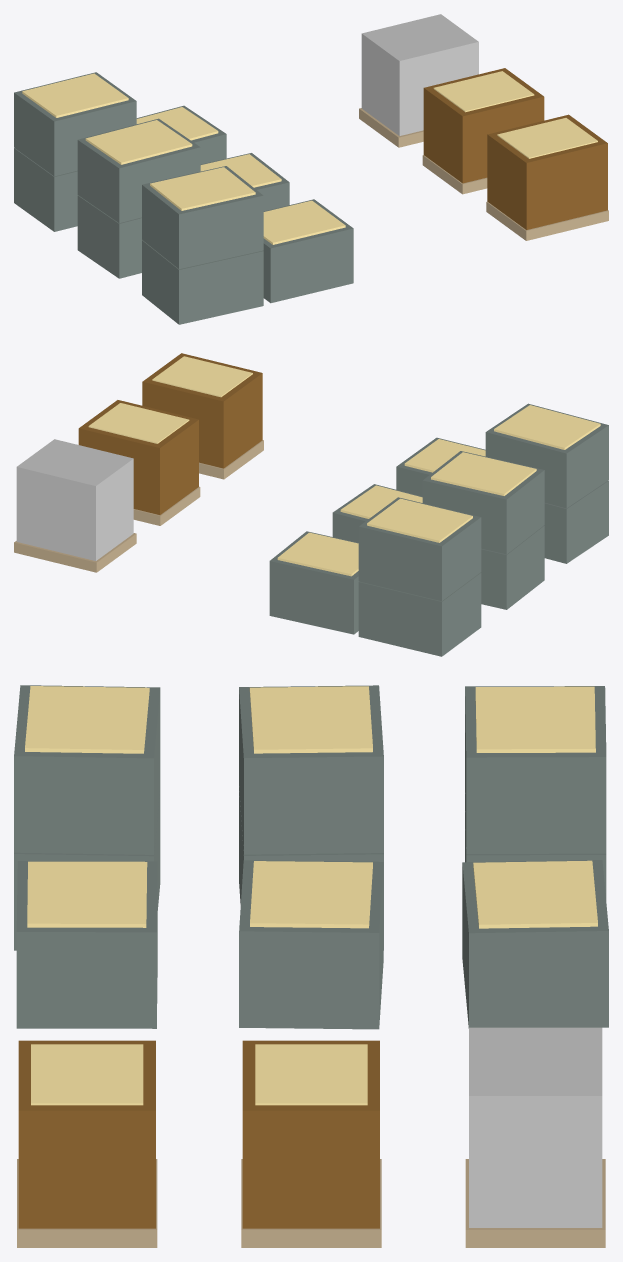
File: SM_AcopioViveres_v1_Mitad_LOD1.fbx
3 views of the same model, one above another, from view 1: azimuth 30°, elevation 25°; view 2: azimuth 150°, elevation 25°; view 3: azimuth 270°, elevation 25° (orthographic). The views are drawn at different scales.
Visible parts, largest first — view 1: SM_acopio_viveres_v1_LOD1; view 2: SM_acopio_viveres_v1_LOD1; view 3: SM_acopio_viveres_v1_LOD1.
Boxes of the visible parts, bbox=[...] form: SM_acopio_viveres_v1_LOD1: bbox=[14, 14, 608, 324]; SM_acopio_viveres_v1_LOD1: bbox=[14, 353, 608, 656]; SM_acopio_viveres_v1_LOD1: bbox=[14, 685, 608, 1247].
Size of the model in its own units: 6.22 by 1.56 by 4.25.
